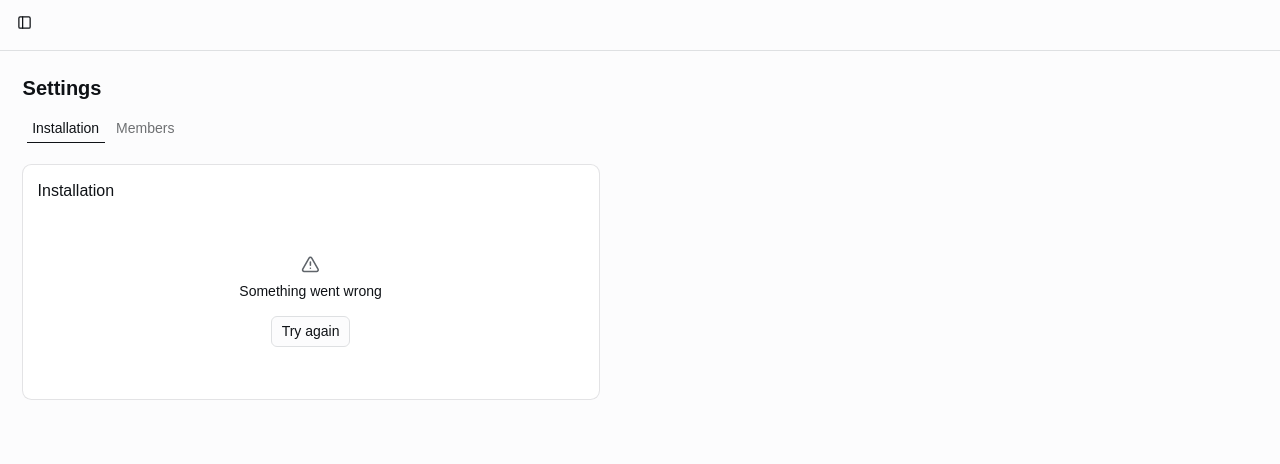
Scenario: a failed load offers Try again
What coordinates should you click on to do the following:
click the button "Try again"
I would click on:
 (310, 331)
Its box is [271,316,350,346].
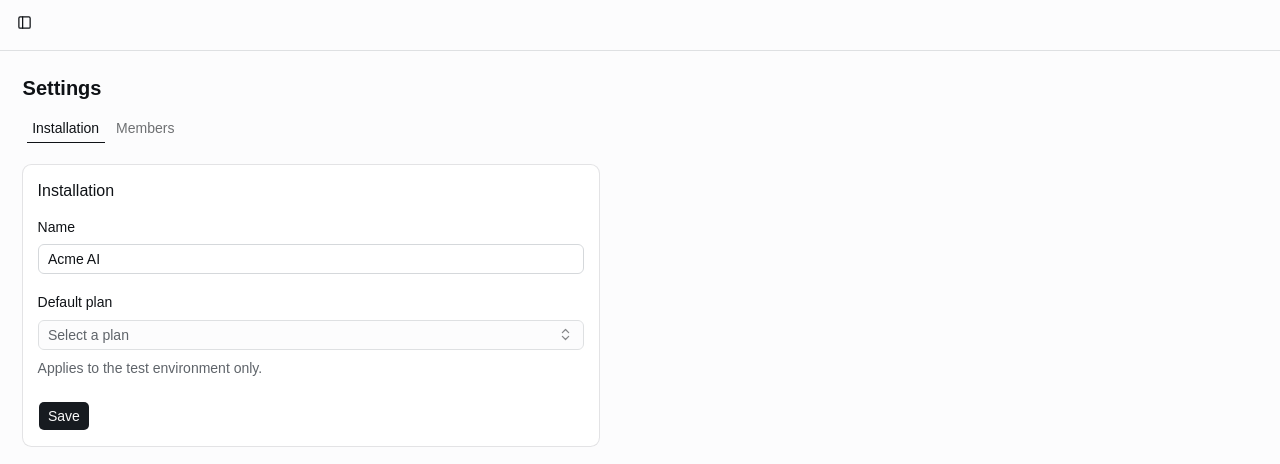
Expected: the field labelled "Name" holds "Acme AI", [38,244,584,274]
